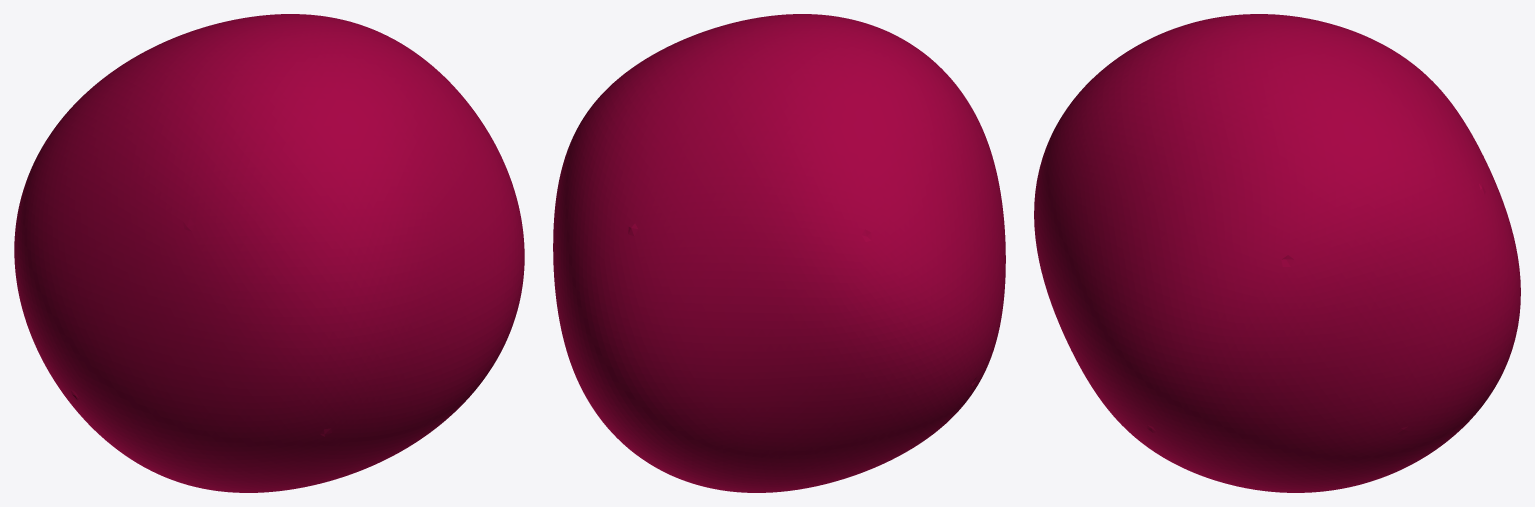
Rendered from Blobbie-05.dae.
3 views of the same model, side by side, from view 1: azimuth 30°, elevation 25°; view 2: azimuth 150°, elevation 25°; view 3: azimuth 270°, elevation 25° (orthographic). The views are drawn at different scales.
Parts seen in each view (by area): view 1: Blobbie; view 2: Blobbie; view 3: Blobbie.
Part boxes in pixels (box(x1,y1,x2,y2)): Blobbie: box(14, 14, 524, 492); Blobbie: box(553, 14, 1005, 492); Blobbie: box(1034, 14, 1520, 492).
Bounding box in the file's own units: 2.03 × 2.04 × 2.
